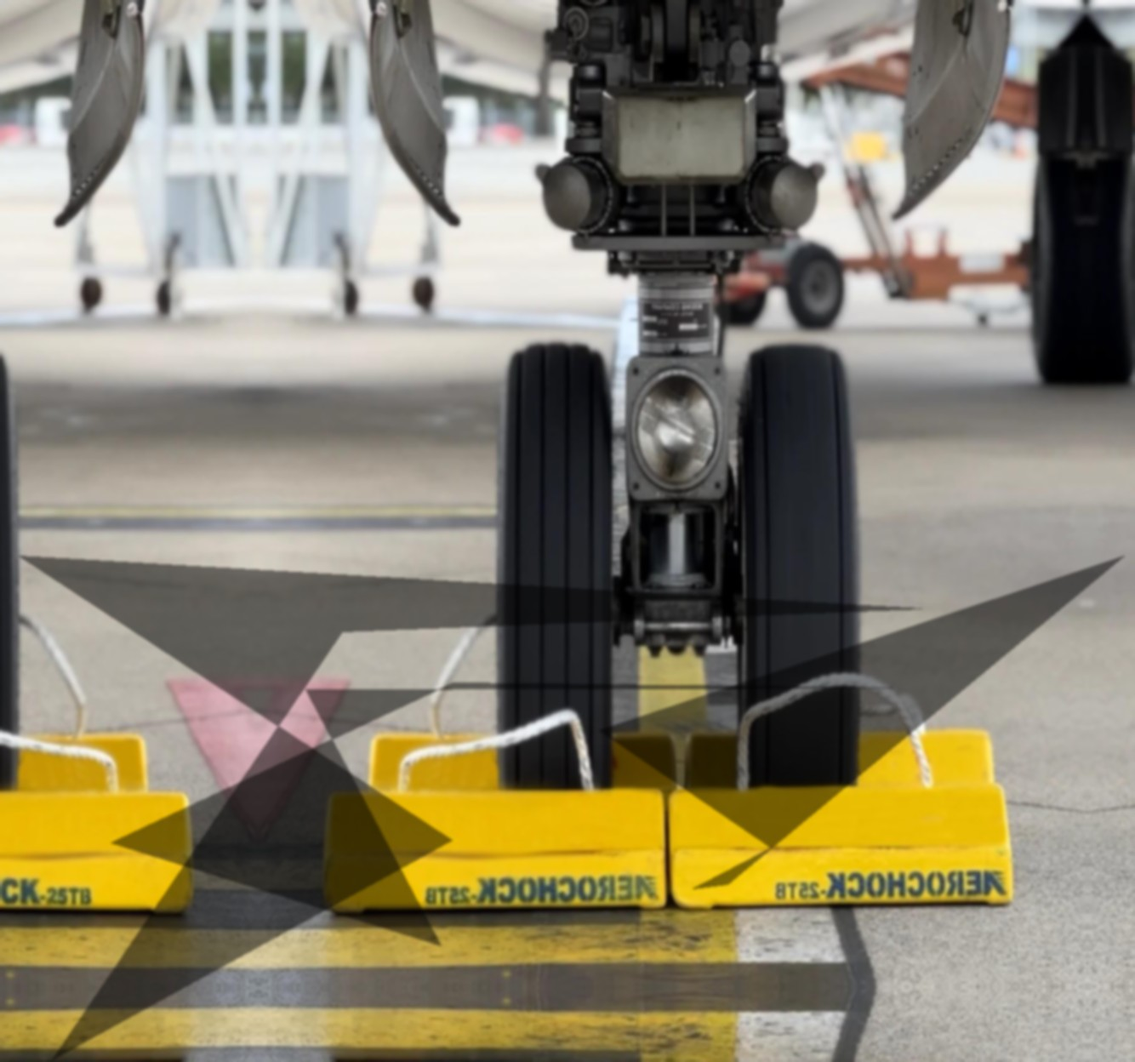chock: (668, 782, 1013, 912), (320, 787, 666, 914), (0, 788, 195, 915), (680, 724, 997, 791), (363, 731, 677, 794), (0, 731, 153, 795)
wheel: (737, 340, 857, 784), (500, 342, 615, 792), (1031, 180, 1082, 378), (1092, 180, 1135, 378), (789, 244, 844, 325), (723, 284, 766, 324)
